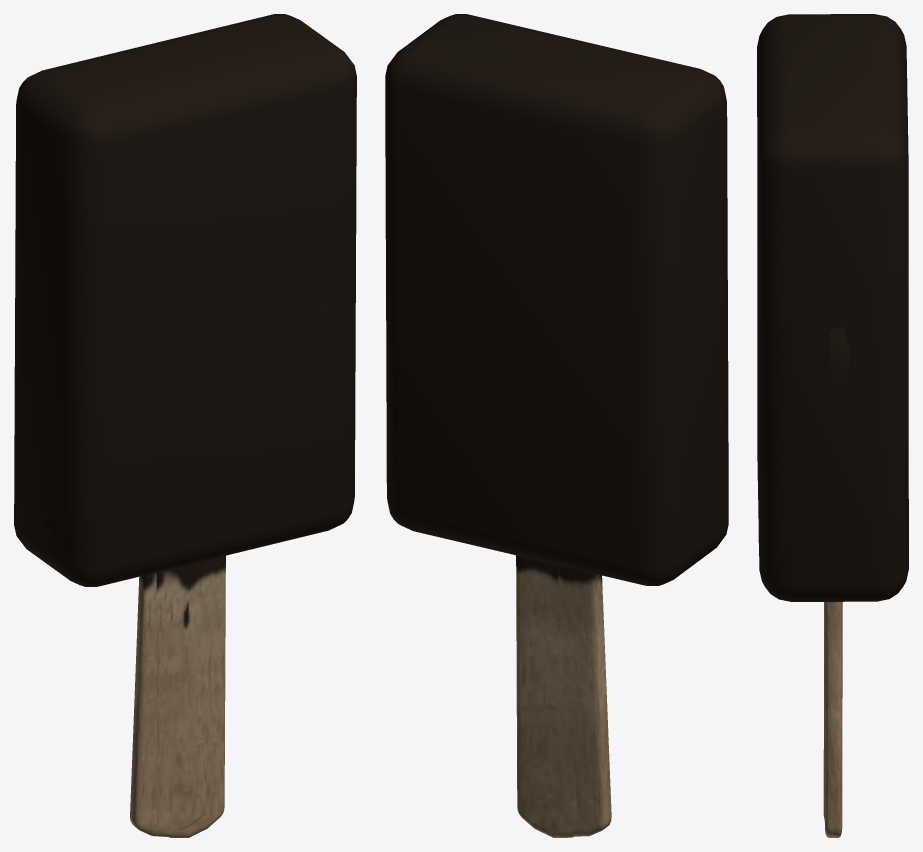
Rendered from icebar.glb.
3 renders of one model, left to right at view 1: azimuth 30°, elevation 25°; view 2: azimuth 150°, elevation 25°; view 3: azimuth 270°, elevation 25°, orthographic. The views are drawn at different scales.
Visible parts, largest first — view 1: whole, bitten; view 2: whole, bitten; view 3: whole, bitten.
Boxes of the visible parts, <box> form: whole: <box>14,14,356,837</box>; bitten: <box>41,305,326,836</box>; whole: <box>385,14,728,837</box>; bitten: <box>557,180,720,836</box>; whole: <box>757,14,908,837</box>; bitten: <box>758,327,850,820</box>.
Size of the model in its own units: 0.042 by 0.1067 by 0.0193.
Materials: 1 (1 with a texture image).
